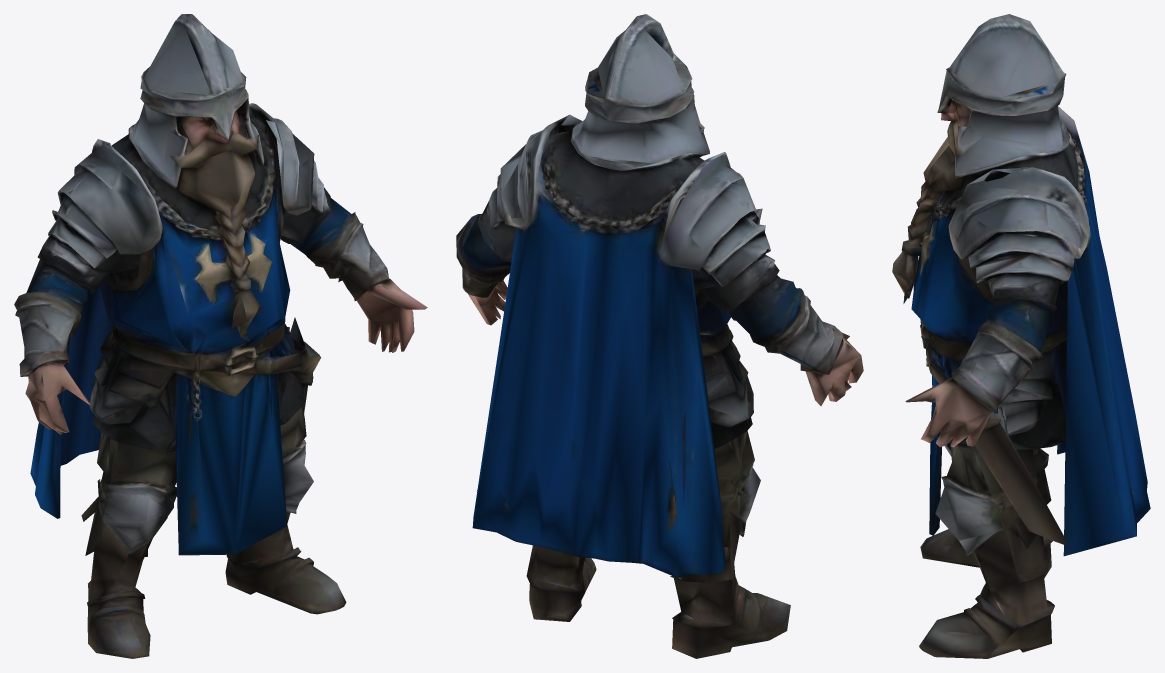
Rendered from dwf_spear_lo.glb.
The picture shows the model from 3 angles, left to right: view 1: azimuth 30°, elevation 25°; view 2: azimuth 150°, elevation 25°; view 3: azimuth 270°, elevation 25°; orthographic projection. The views are drawn at different scales.
Parts seen in each view (by area): view 1: node_0; view 2: node_0; view 3: node_0.
Part boxes in pixels (left/top/right/bottom): node_0: left=14, top=14, right=427, bottom=658; node_0: left=456, top=14, right=863, bottom=658; node_0: left=892, top=14, right=1150, bottom=658.
Size of the model in its own units: 0.7132 by 1.09 by 0.4331.
1 material, 1 textured.
